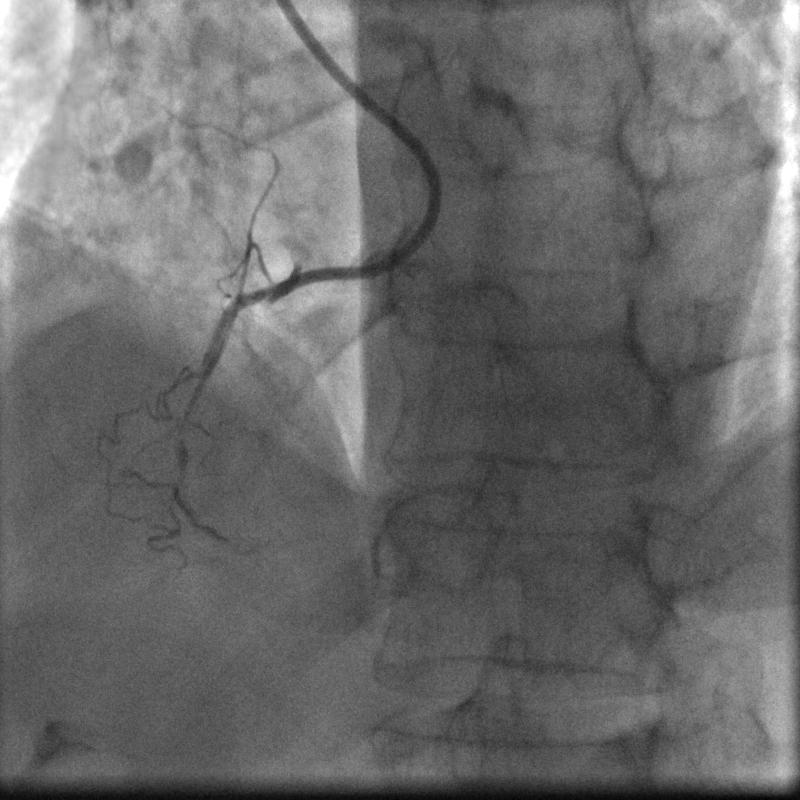Stenosis: (185, 356, 220, 409)
